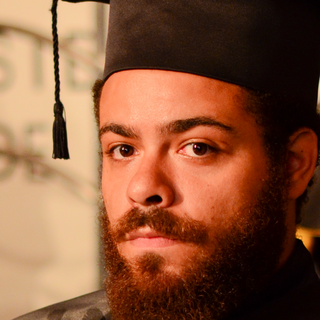eye: (169, 136, 226, 161), (102, 141, 141, 162)
